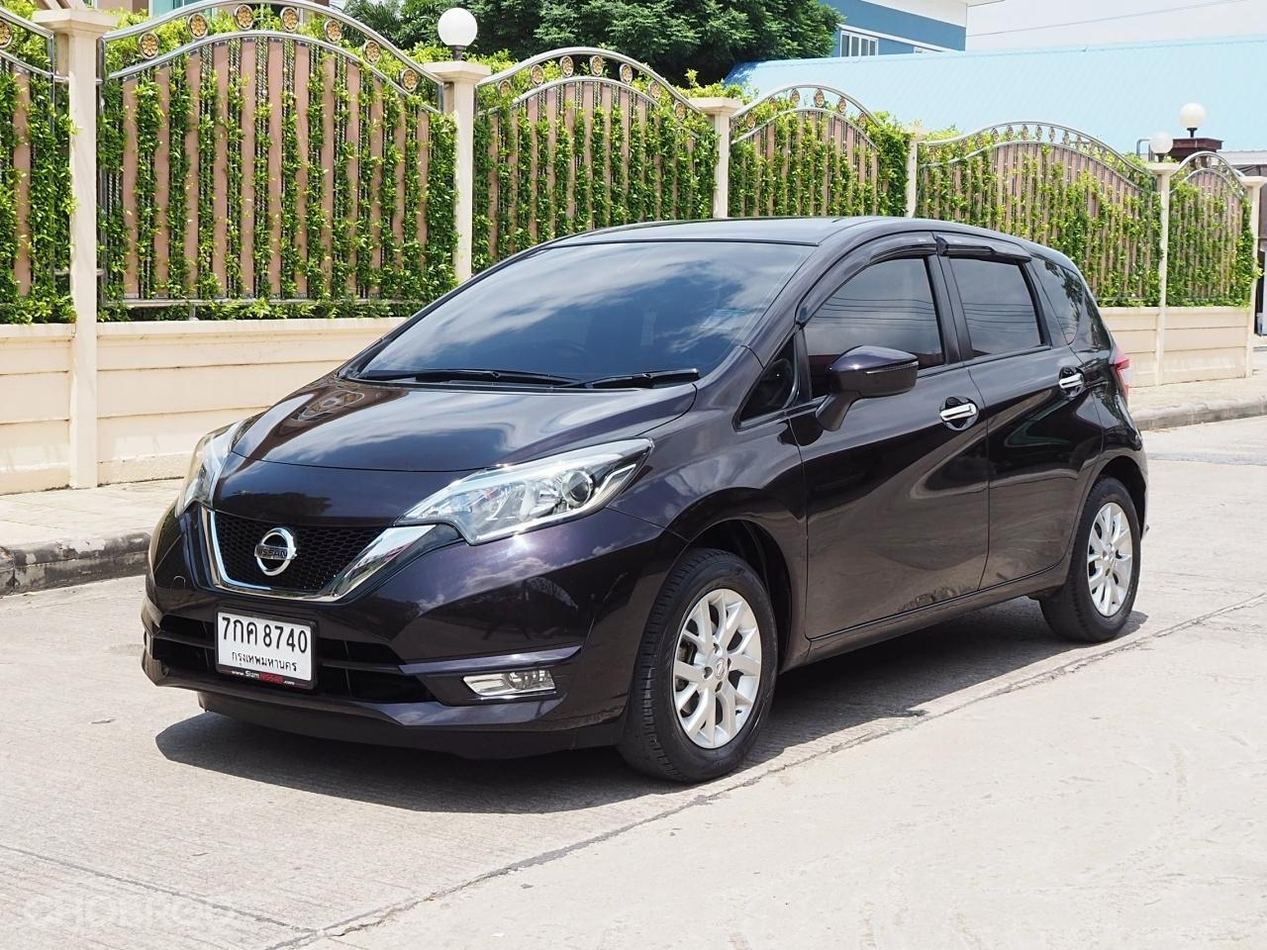license-plate: (211, 605, 320, 695)
